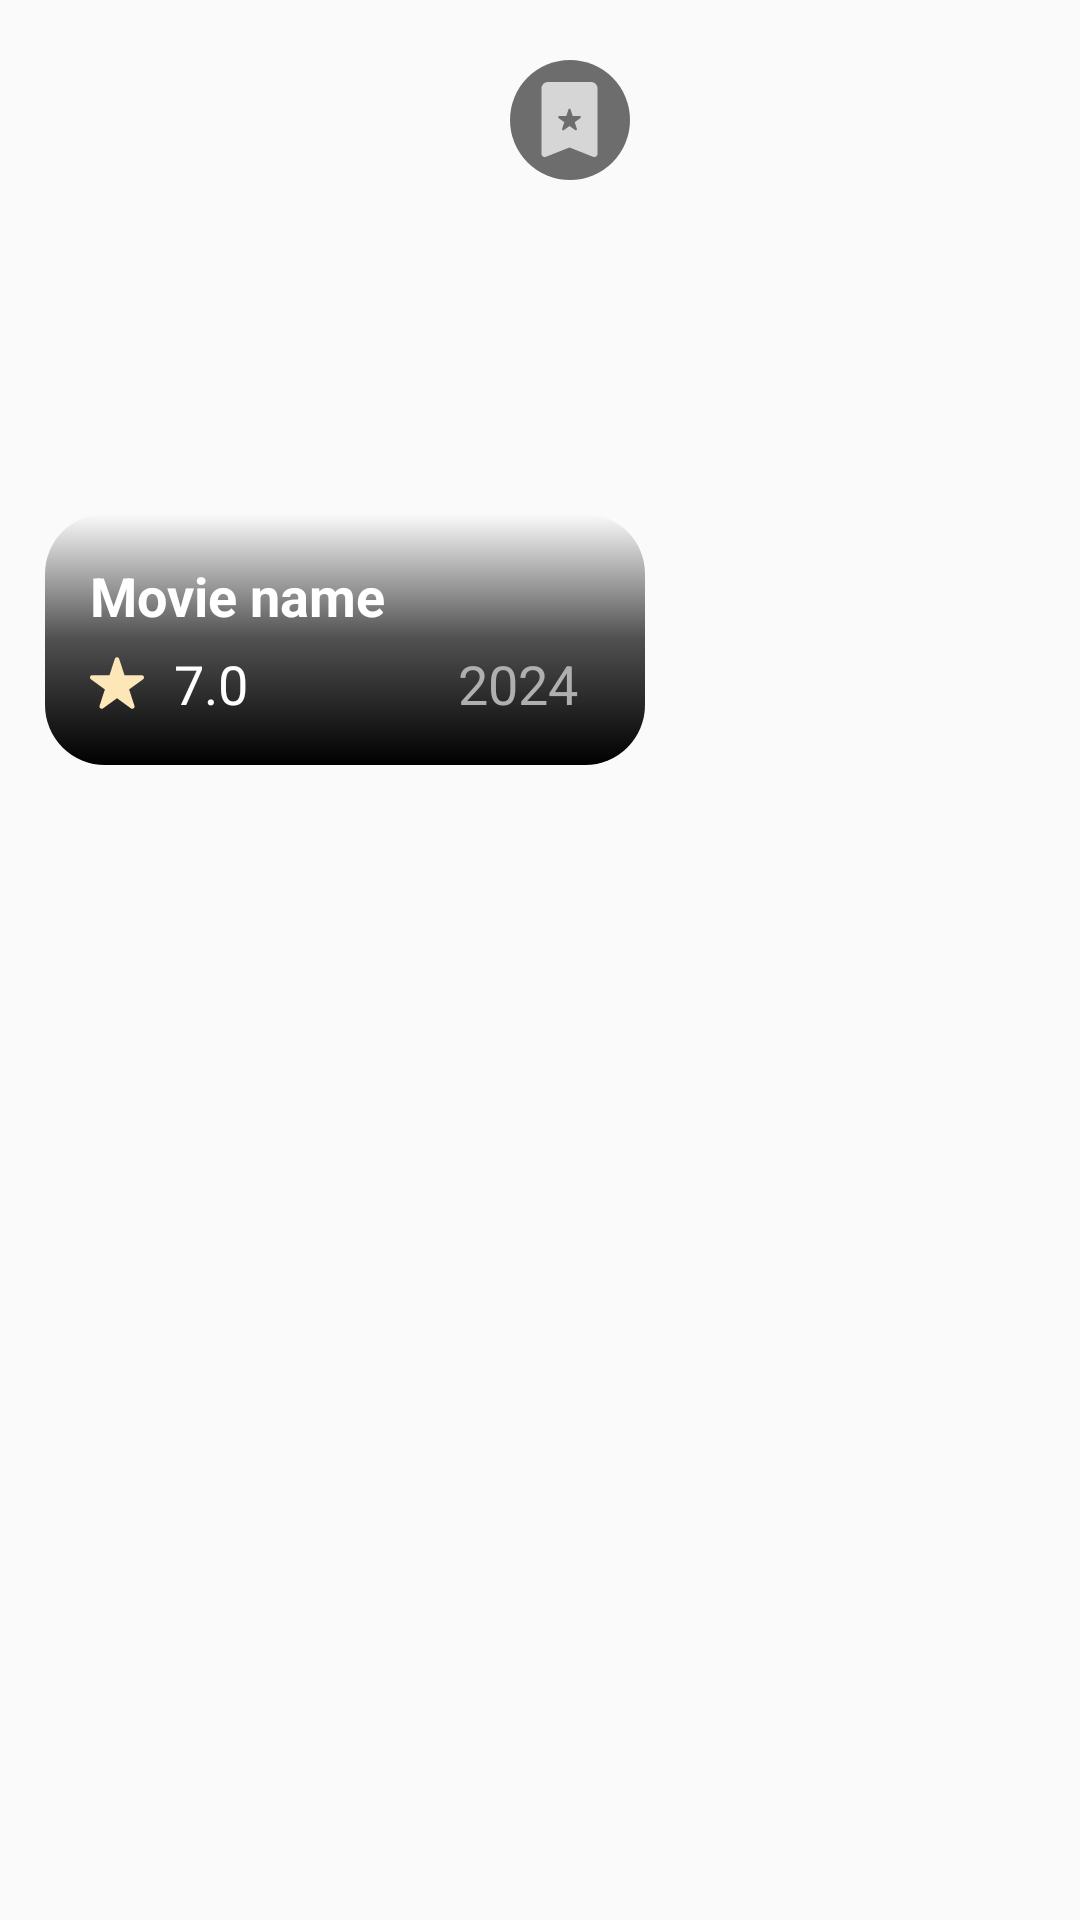

Icons on this 1080px x 1920px Android screen, each with the point to tap as point (x, y):
favorite bookmark: point (569, 119)
star: point (117, 683)
